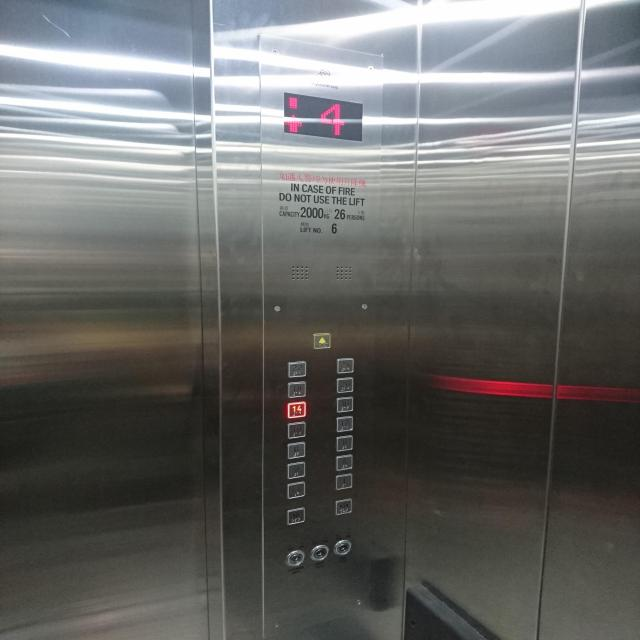1: (335, 472, 353, 490)
10: (287, 422, 305, 438)
12: (336, 416, 353, 432)
14: (287, 401, 306, 418)
16: (336, 396, 354, 412)
18: (287, 381, 306, 398)
2: (287, 461, 305, 479)
20: (336, 376, 354, 393)
22: (288, 360, 306, 378)
24: (336, 357, 354, 374)
4: (336, 453, 352, 470)
6: (287, 441, 305, 459)
8: (336, 434, 353, 452)
G: (287, 480, 305, 500)
alarm: (313, 332, 331, 348)
close: (335, 498, 352, 514)
keyhole: (285, 550, 305, 568), (310, 545, 329, 561), (334, 539, 352, 555)
led: (283, 93, 363, 141)
open: (287, 506, 305, 526)
